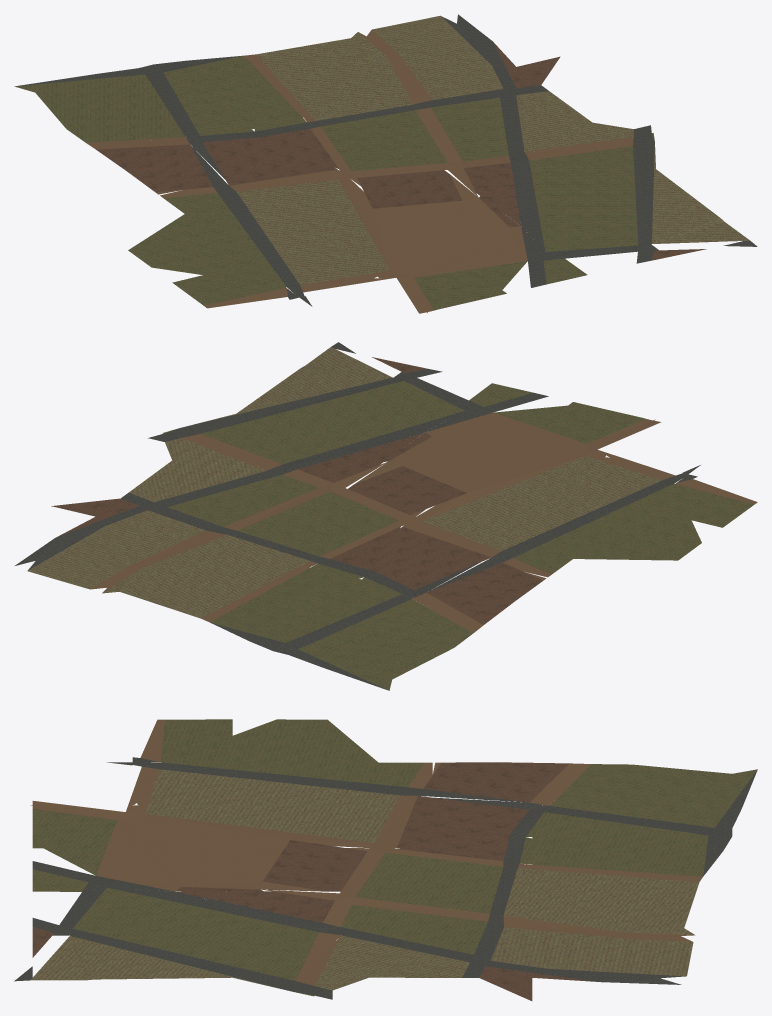
The model's file is TerrenoSoldadoSinTexturas2.fbx.
3 views of the same model, one above another, from view 1: azimuth 30°, elevation 25°; view 2: azimuth 150°, elevation 25°; view 3: azimuth 270°, elevation 25° (orthographic). The views are drawn at different scales.
Visible parts, largest first — view 1: lagua.003; view 2: lagua.003; view 3: lagua.003.
Part boxes in pixels (x1,y1,x2,y2): lagua.003: [14, 14, 757, 313]; lagua.003: [15, 342, 757, 690]; lagua.003: [14, 719, 757, 1000].
Bounding box in the file's own units: 32751 × 465 × 37225.
